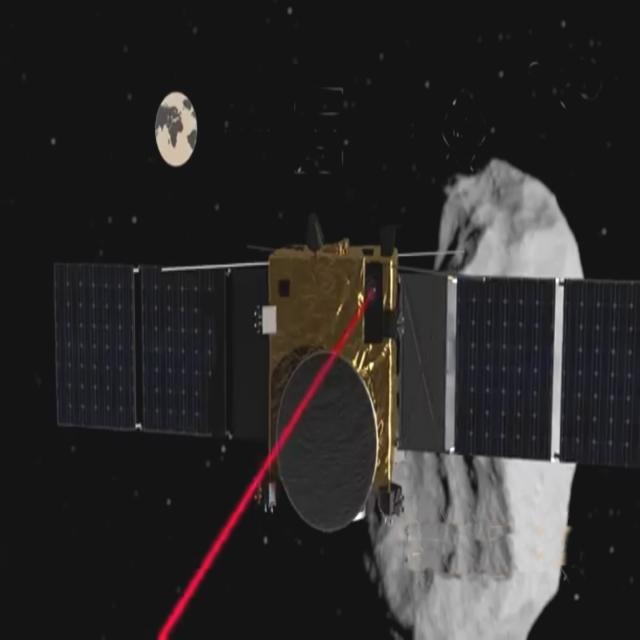medium_debris: (18, 222, 640, 557)
